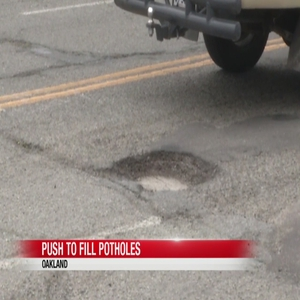pothole: (112, 148, 222, 199)
